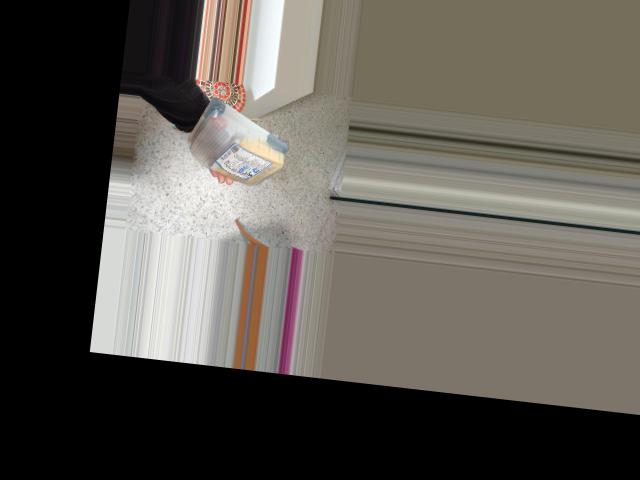cheese: (168, 95, 297, 191)
